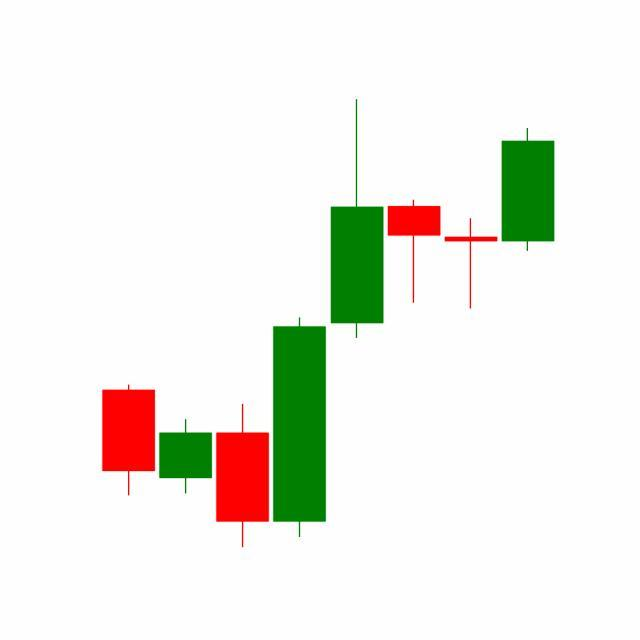Hikkake Pattern: (270, 99, 555, 542)
